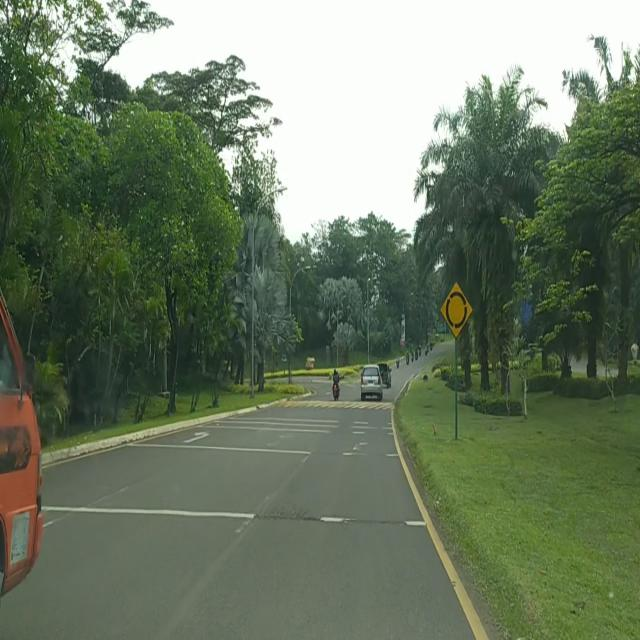Drain Hole: (252, 493, 308, 519)
